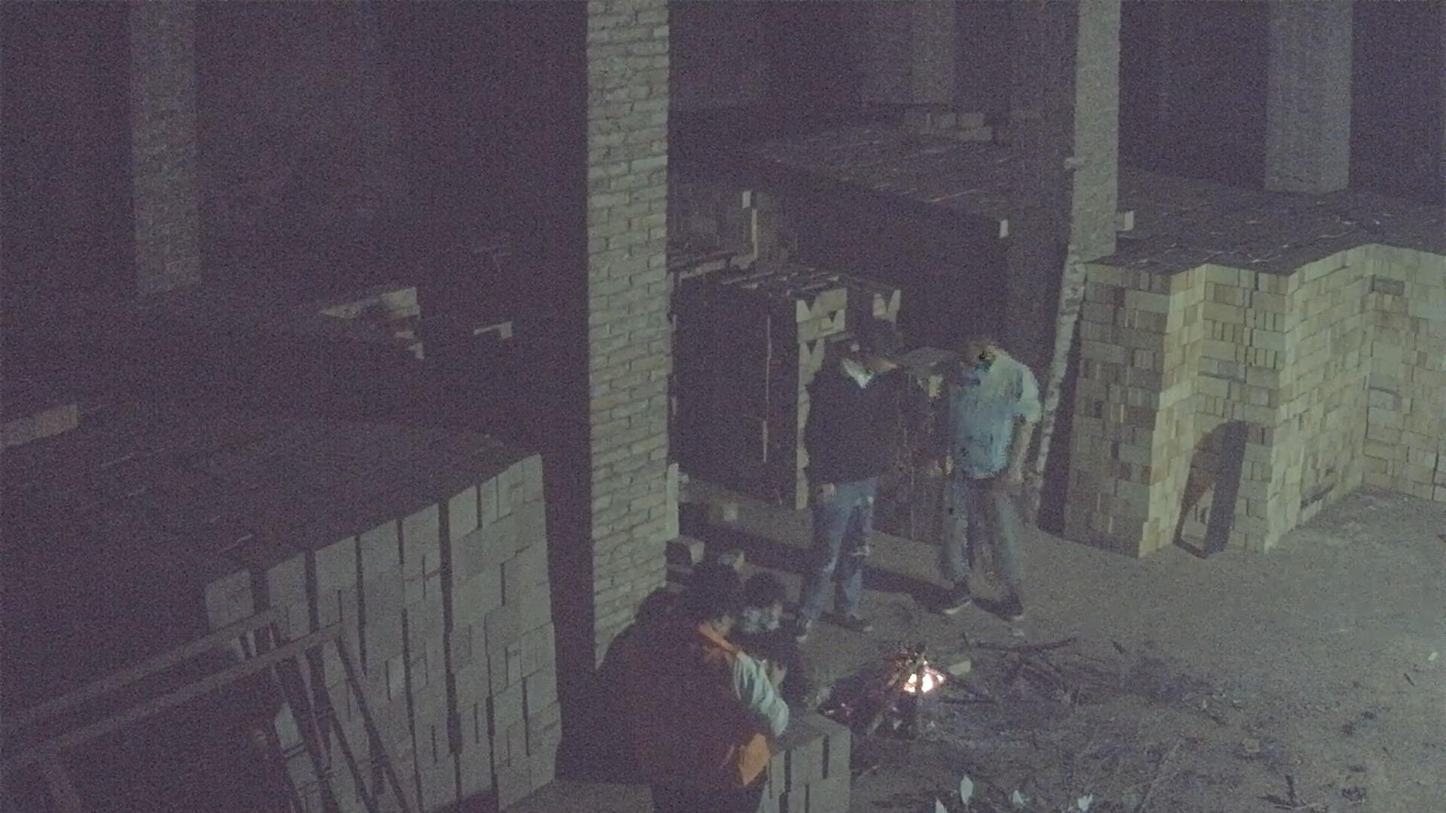fire: (904, 666, 945, 694)
